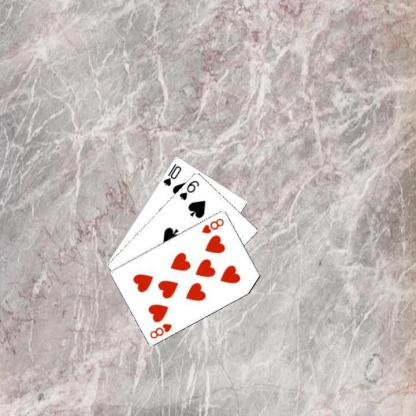10S: (160, 161, 182, 187)
6S: (177, 177, 200, 201)
8H: (148, 320, 174, 340), (199, 216, 225, 234)
